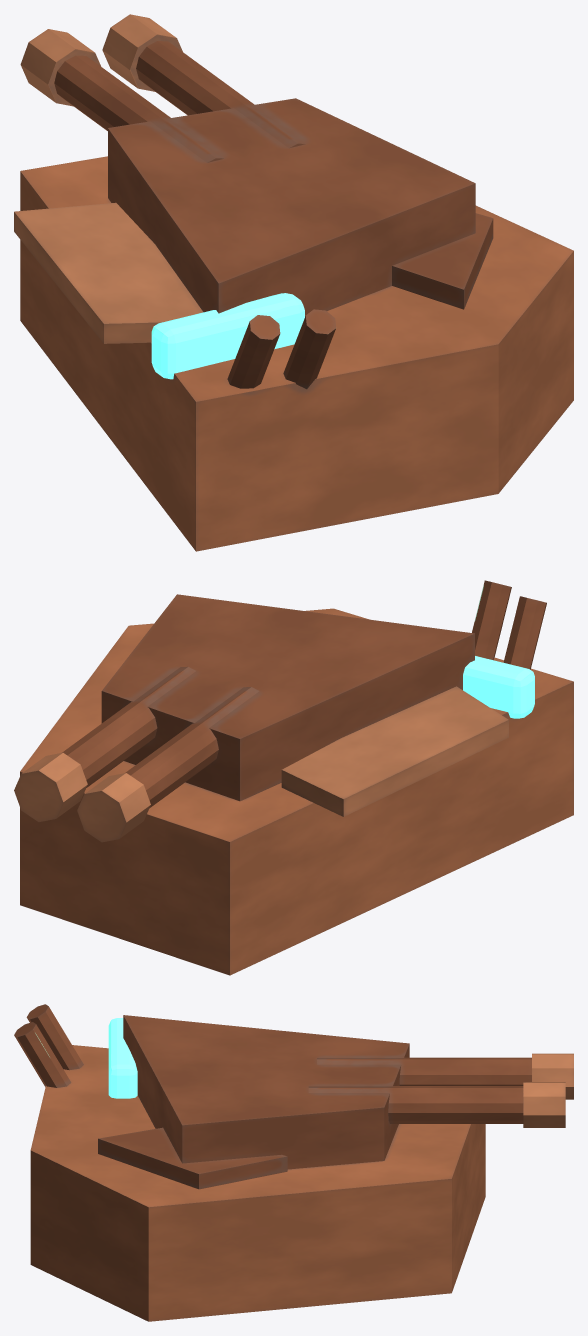
The model's file is sod_phantom_tank.glb.
3 views of the same model, one above another, from view 1: azimuth 30°, elevation 25°; view 2: azimuth 150°, elevation 25°; view 3: azimuth 270°, elevation 25° (orthographic). The views are drawn at different scales.
Visible parts, largest first — view 1: sod_phantom_tank; view 2: sod_phantom_tank; view 3: sod_phantom_tank.
Part boxes in pixels (left/top/right/bottom): sod_phantom_tank: left=14, top=14, right=573, bottom=551; sod_phantom_tank: left=14, top=580, right=573, bottom=975; sod_phantom_tank: left=14, top=1004, right=573, bottom=1321.
Size of the model in its own units: 0.94 by 0.458 by 1.33.
1 material, 1 textured.
